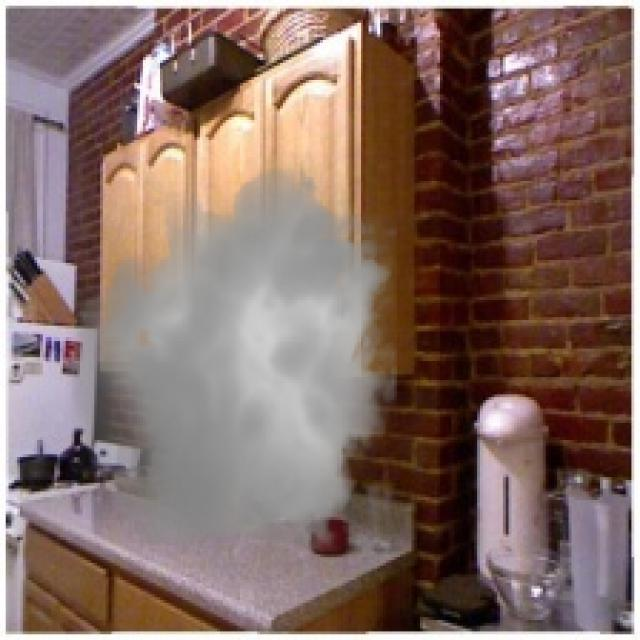Smoke: (59, 152, 412, 568)
